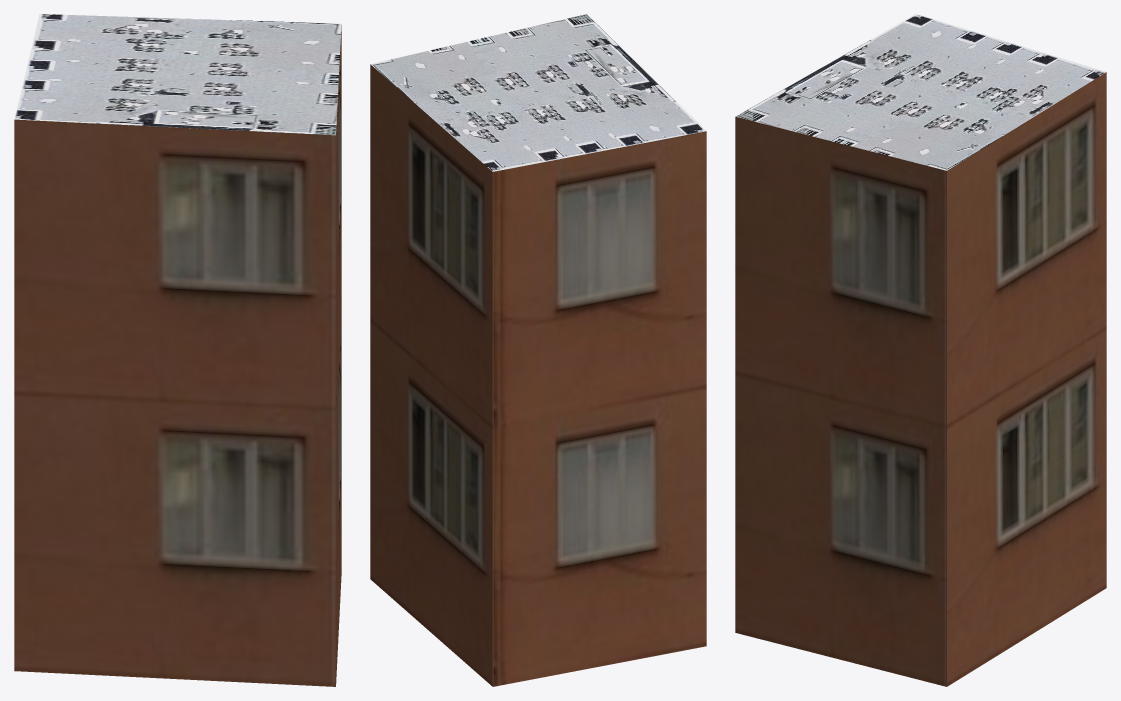
Rendered from ResTex__231.fbx.
The picture shows the model from 3 angles, left to right: view 1: azimuth 30°, elevation 25°; view 2: azimuth 150°, elevation 25°; view 3: azimuth 270°, elevation 25°; orthographic projection. The views are drawn at different scales.
Parts seen in each view (by area): view 1: CityEngineMaterial_20_m, CityEngineMaterial_4_m; view 2: CityEngineMaterial_20_m, CityEngineMaterial_4_m; view 3: CityEngineMaterial_20_m, CityEngineMaterial_4_m.
Boxes of the visible parts, x1,y1,x2,y2 form: CityEngineMaterial_20_m: (14,25,341,686); CityEngineMaterial_4_m: (14,14,341,135); CityEngineMaterial_20_m: (370,64,706,686); CityEngineMaterial_4_m: (370,14,706,171); CityEngineMaterial_20_m: (735,72,1106,686); CityEngineMaterial_4_m: (735,14,1105,170).
Size of the model in its own units: 3.91 by 6 by 3.91.
Materials: 2 (2 with a texture image).
